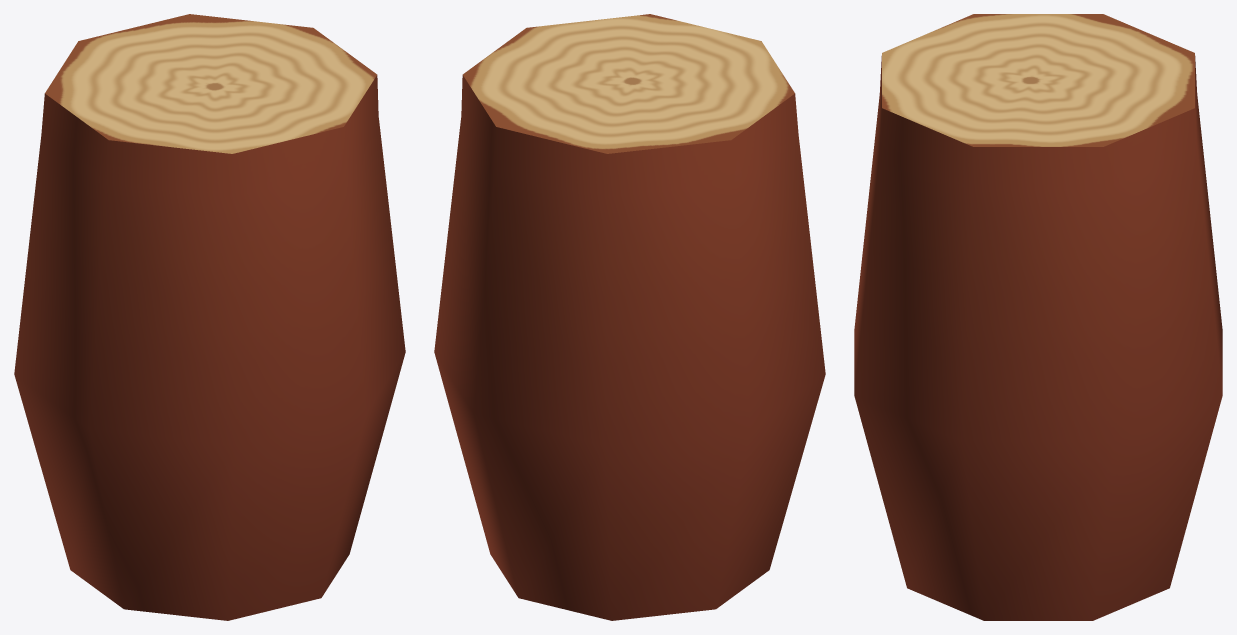
File: tree_4_c_stump.glb
The picture shows the model from 3 angles, left to right: view 1: azimuth 30°, elevation 25°; view 2: azimuth 150°, elevation 25°; view 3: azimuth 270°, elevation 25°; orthographic projection.
Visible parts, largest first — view 1: tree_4_c_stump; view 2: tree_4_c_stump; view 3: tree_4_c_stump.
Part boxes in pixels (<box>): tree_4_c_stump: <box>14,14,405,620</box>; tree_4_c_stump: <box>434,14,825,620</box>; tree_4_c_stump: <box>854,14,1222,620</box>.
Bounding box in the file's own units: 0.521 × 0.8065 × 0.5178.
Materials: 2 (2 with a texture image).
